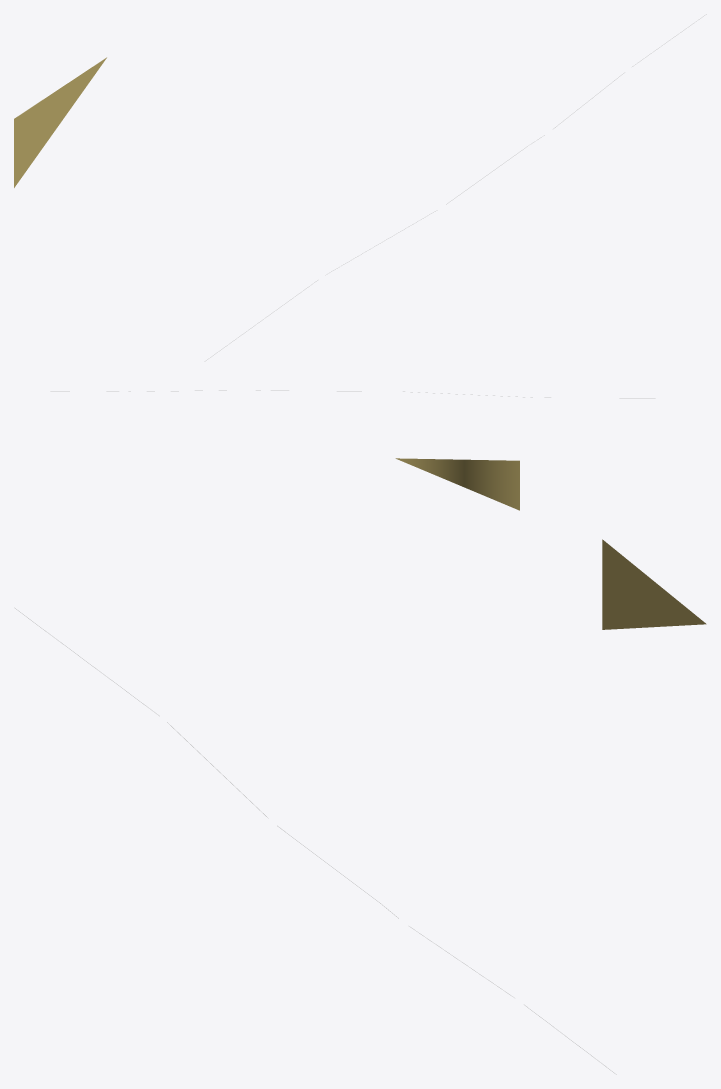
The picture shows the model from 3 angles, top to bottom: view 1: azimuth 30°, elevation 25°; view 2: azimuth 150°, elevation 25°; view 3: azimuth 270°, elevation 25°; orthographic projection. The views are drawn at different scales.
Size of the model in its own units: 221 by 20 by 138.
